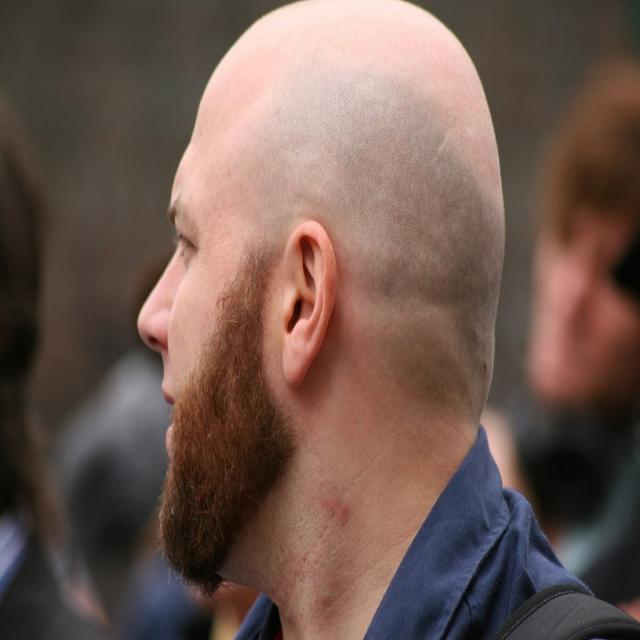no_helmet: (149, 0, 536, 390)
